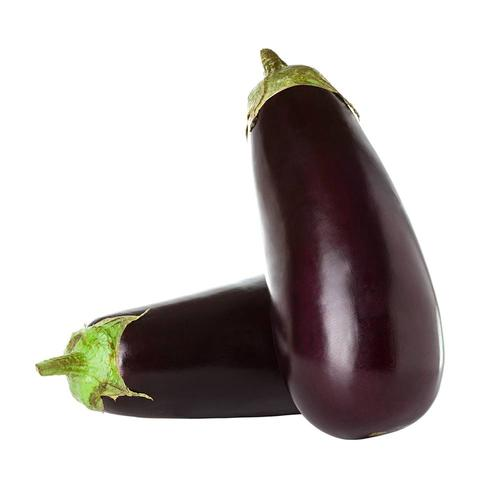fruit_eggplant: (241, 44, 447, 443), (35, 270, 320, 425)
